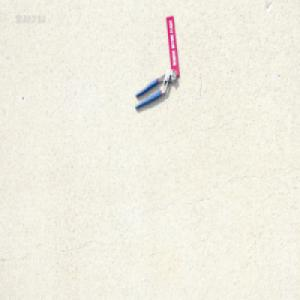Label: (166, 14, 180, 78)
Pliers: (134, 69, 176, 110)
